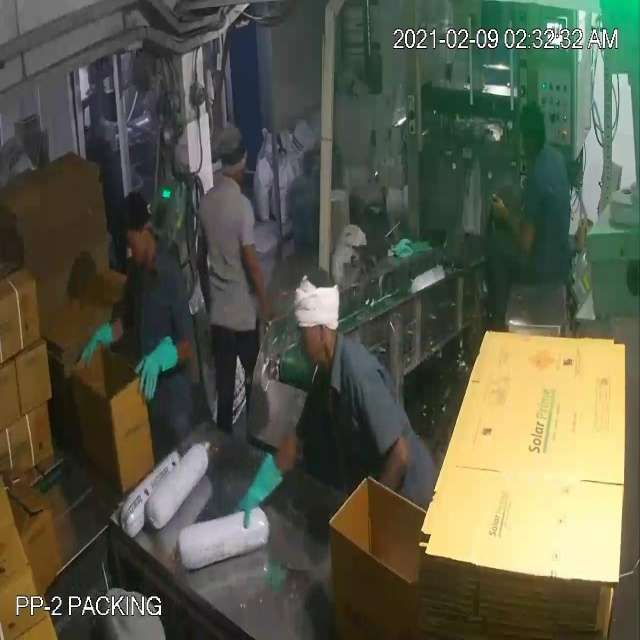Guantes: (237, 431, 288, 537), (133, 330, 181, 405), (73, 307, 117, 379)
Sin_guantes: (486, 180, 536, 268), (233, 224, 272, 328)
